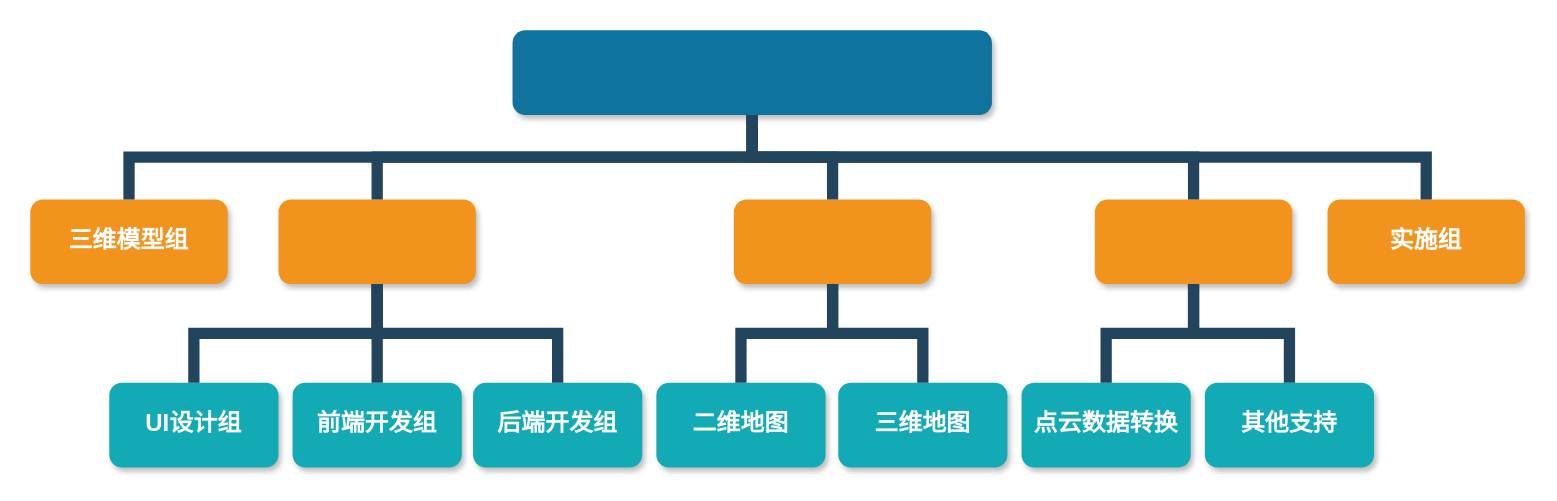
This 1557x501 diagram has some shape labels left out. The shapes that lost their labels are listed below. From the top down, each one's centre as x and y in pixels, then its label:
At (753,74): "项目经理".
At (378,243): "应用开发组".
At (833,243): "地图组".
At (1194,243): "研发组".
